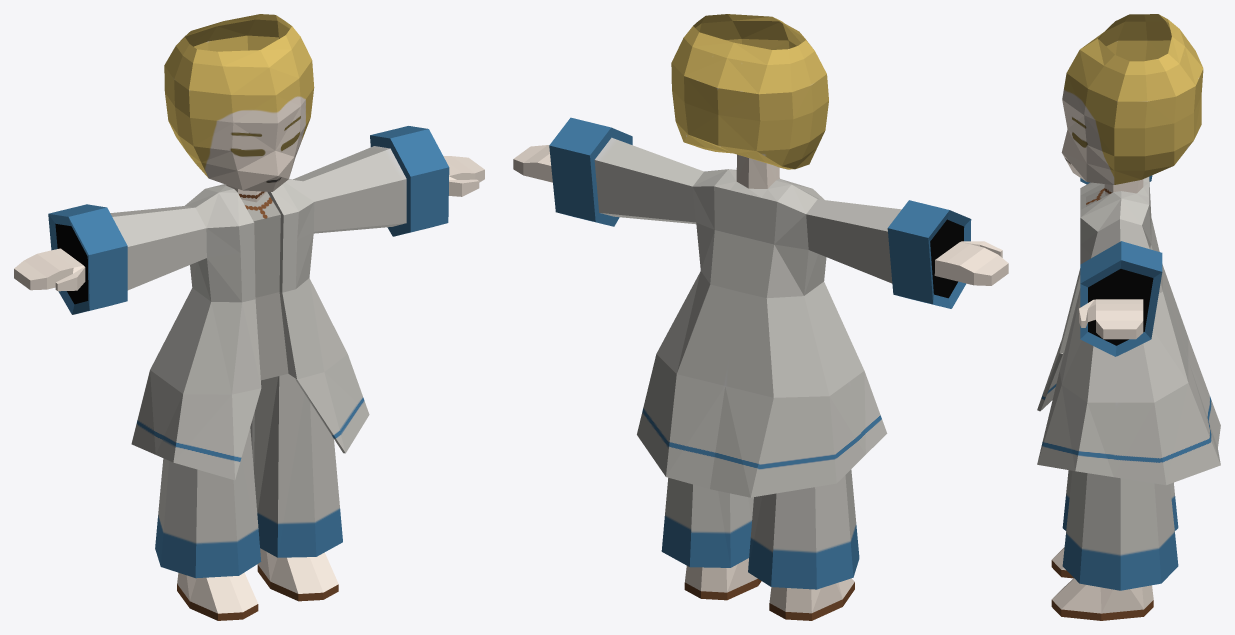
The model's file is MikhaelFinal.fbx.
3 renders of one model, left to right at view 1: azimuth 30°, elevation 25°; view 2: azimuth 150°, elevation 25°; view 3: azimuth 270°, elevation 25°, orthographic. The views are drawn at different scales.
Parts seen in each view (by area): view 1: Body; view 2: Body; view 3: Body.
Part boxes in pixels (x1=…): Body: x1=14, y1=14, x2=484, y2=620; Body: x1=513, y1=14, x2=1008, y2=620; Body: x1=1037, y1=14, x2=1220, y2=620.
Size of the model in its own units: 151 by 173 by 52.38.
Materials: 1 (1 with a texture image).
